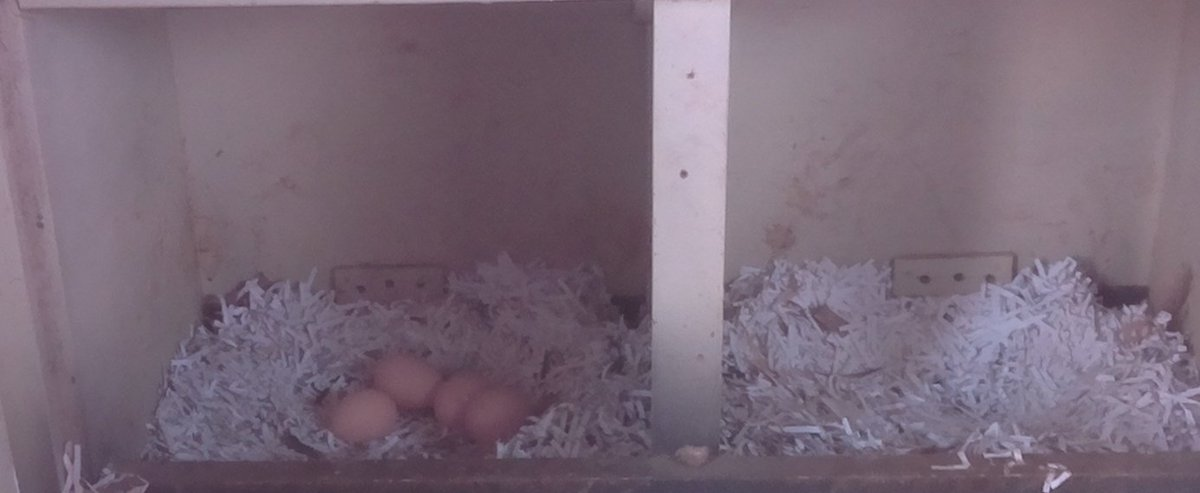egg: (326, 384, 405, 448), (369, 349, 447, 410), (464, 384, 537, 448), (430, 366, 489, 429)
